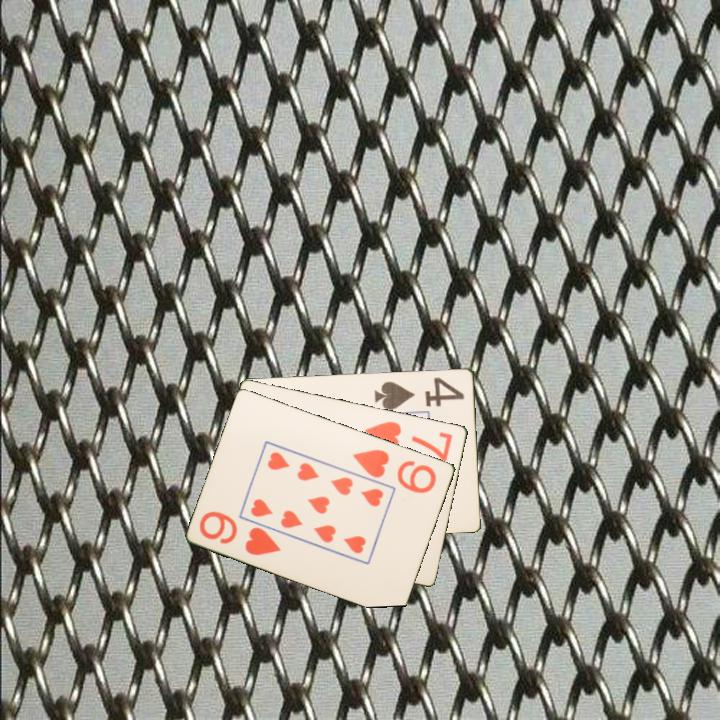4s: (371, 373, 467, 412)
7h: (361, 417, 456, 464)
9h: (349, 445, 440, 496), (196, 507, 284, 558)
